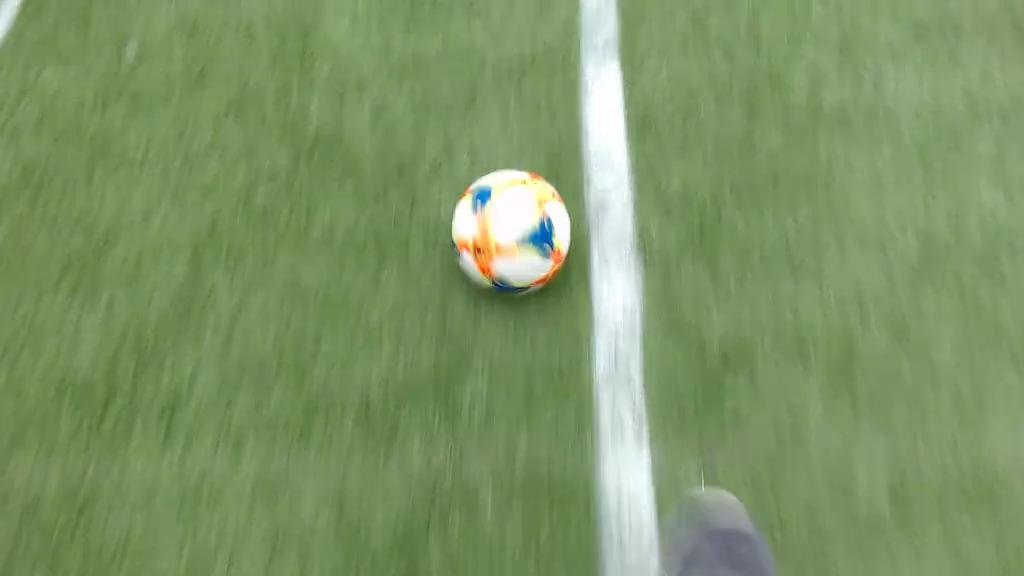ball: (451, 170, 570, 293)
